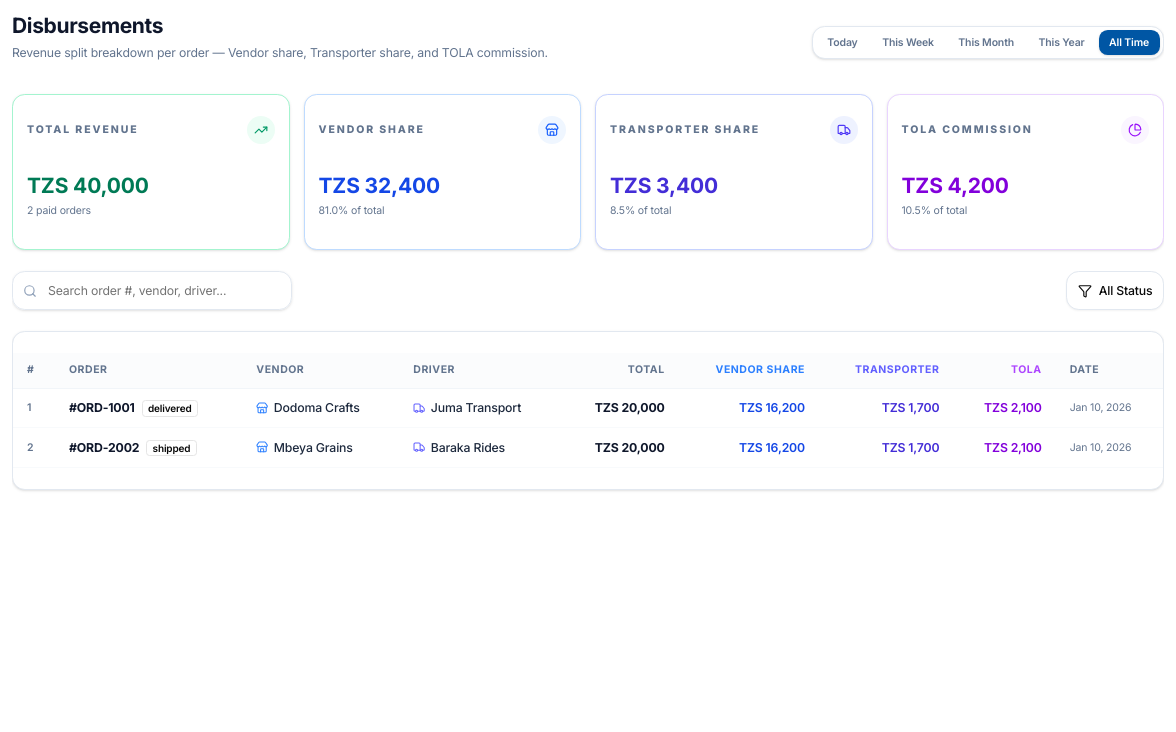
it: FinanceDisbursementsTab › search and status filter › filters by order status via the dropdown
Click the button "All Status" at point(1115, 291), box [1066,271,1164,310]
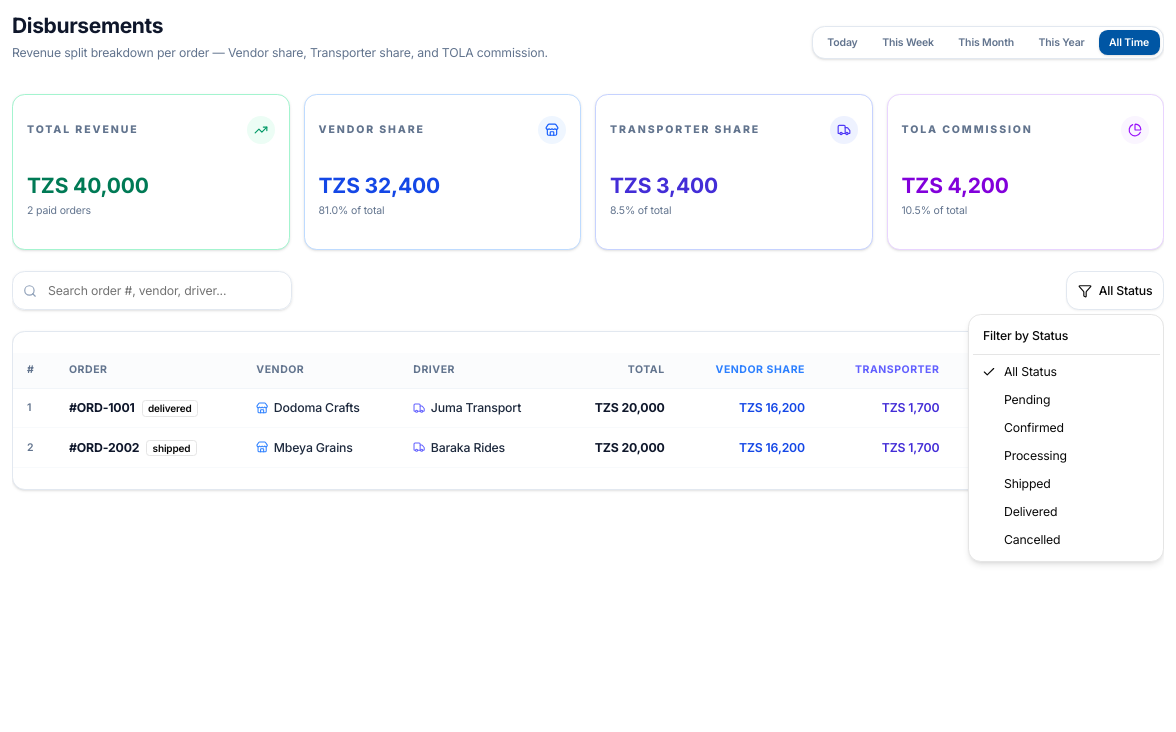
Click the menu item "Shipped" at point(1027, 484), box [1004,476,1051,491]
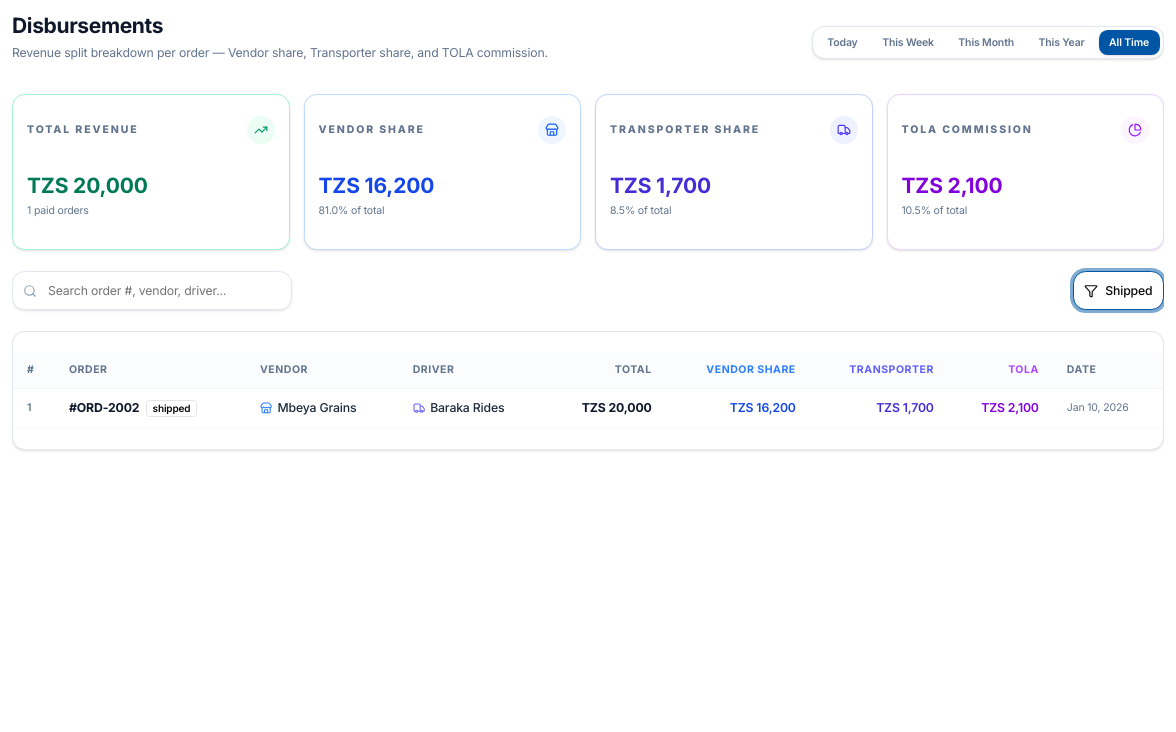
Expected: the text "#ORD-2002" is shown, [69,400,139,415]
Now the text "#ORD-1001" is gone
